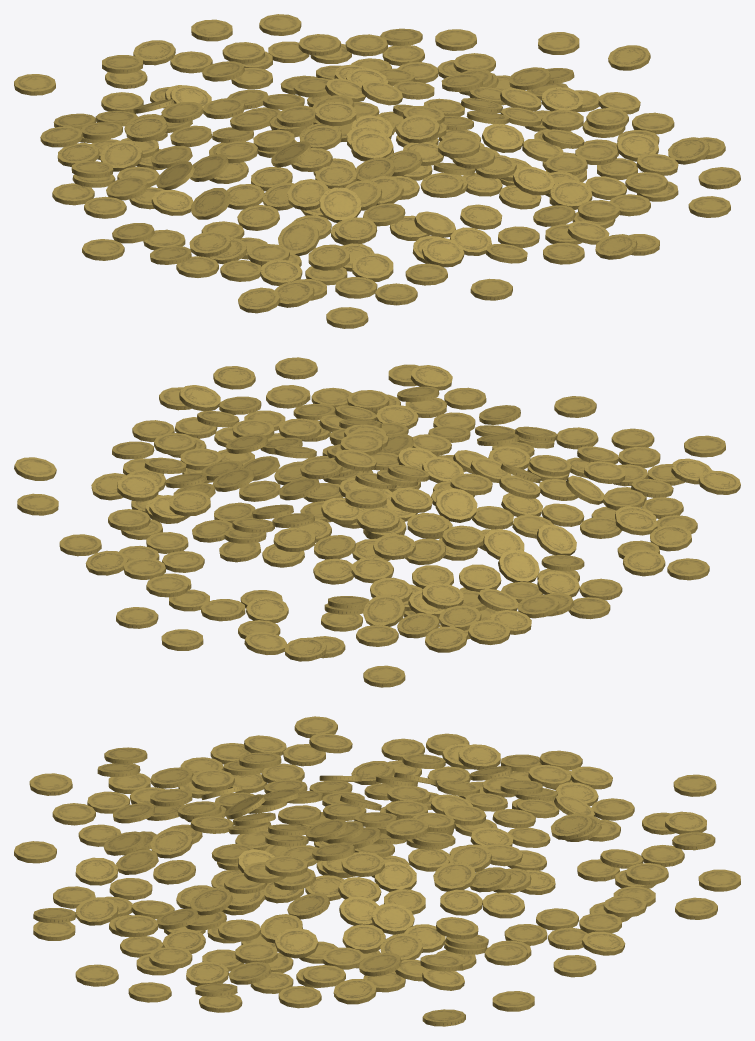
The model's file is Gold_Pile_Large.fbx.
The picture shows the model from 3 angles, top to bottom: view 1: azimuth 30°, elevation 25°; view 2: azimuth 150°, elevation 25°; view 3: azimuth 270°, elevation 25°; orthographic projection.
Parts seen in each view (by area): view 1: Gold_Pile_Large; view 2: Gold_Pile_Large; view 3: Gold_Pile_Large.
Part boxes in pixels (<box>): Gold_Pile_Large: <box>14,14,740,328</box>; Gold_Pile_Large: <box>14,357,740,687</box>; Gold_Pile_Large: <box>14,716,740,1026</box>.
Bounding box in the file's own units: 1.19 × 0.0806 × 1.18.
1 material, 1 textured.
